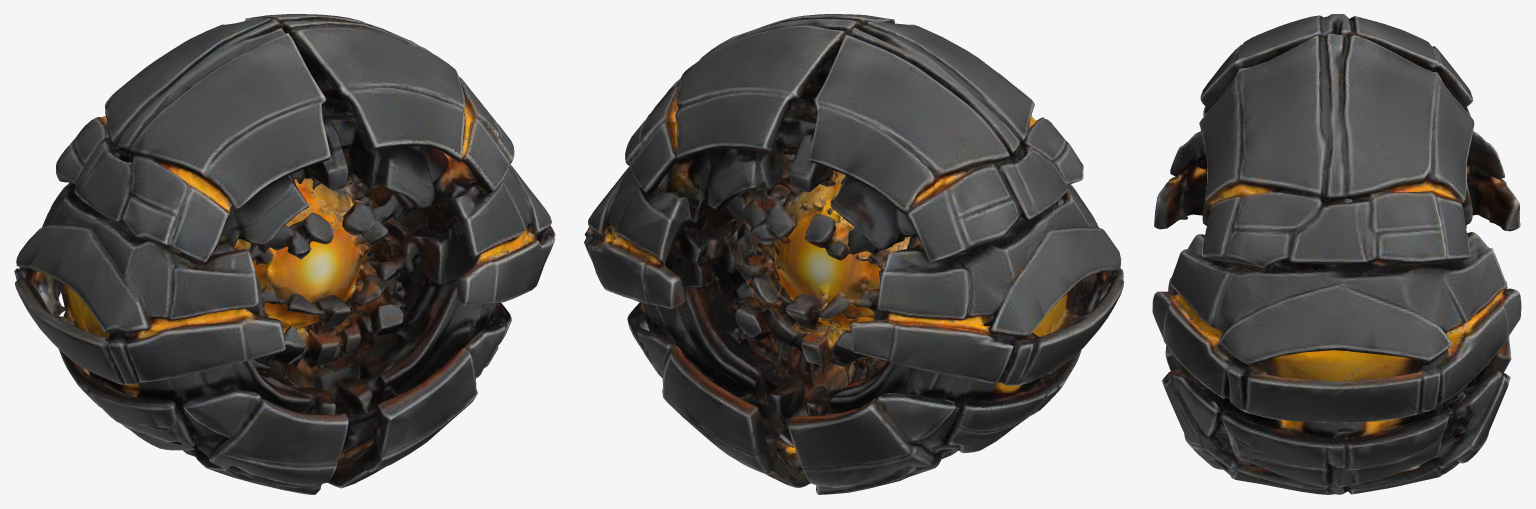
The model's file is hero_object_3d.glb.
The picture shows the model from 3 angles, left to right: view 1: azimuth 30°, elevation 25°; view 2: azimuth 150°, elevation 25°; view 3: azimuth 270°, elevation 25°; orthographic projection.
Size of the model in its own units: 2 by 1.78 by 1.32.
1 material, 1 textured.
